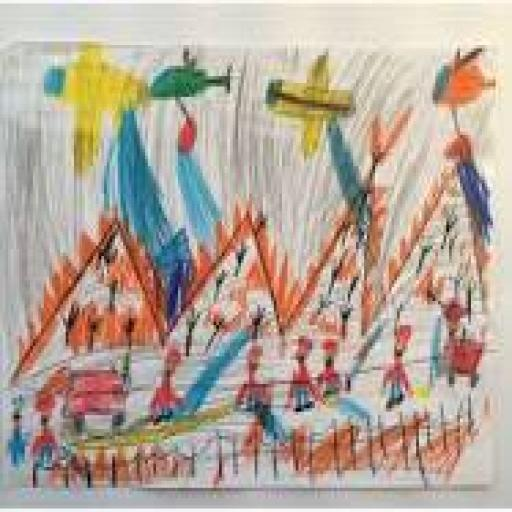person: (371, 316, 417, 422), (137, 346, 185, 440), (440, 272, 470, 393), (280, 328, 316, 418), (313, 328, 349, 409), (30, 382, 58, 484), (8, 392, 28, 486)
